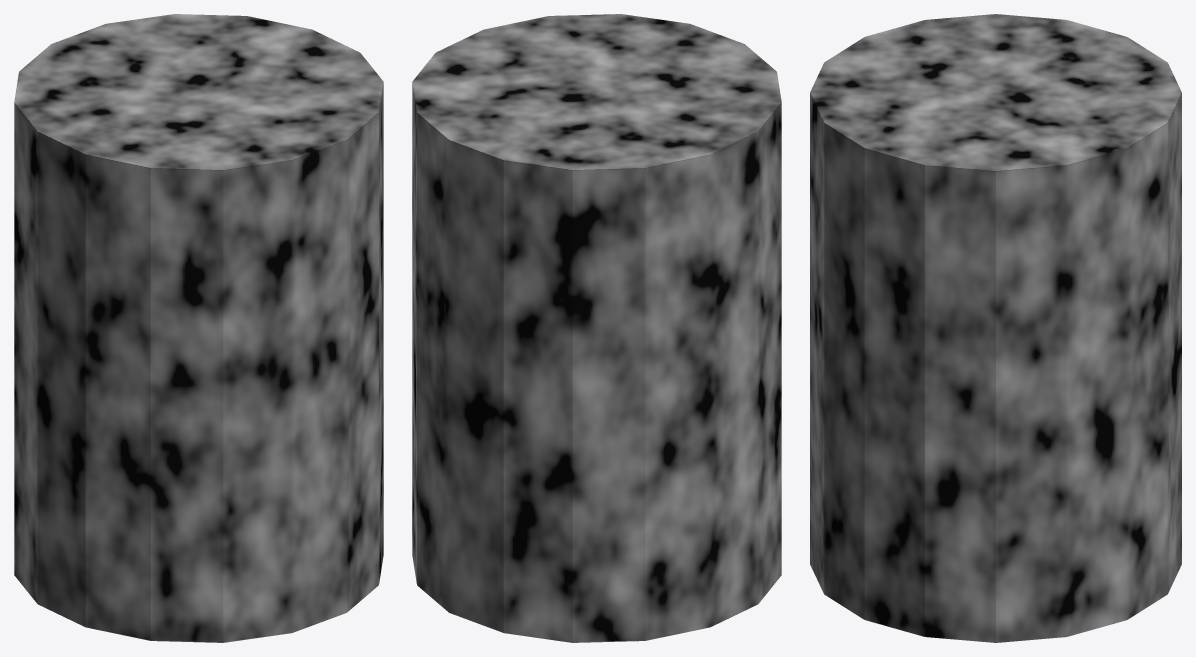
Rendered from barrel.glb.
3 views of the same model, side by side, from view 1: azimuth 30°, elevation 25°; view 2: azimuth 150°, elevation 25°; view 3: azimuth 270°, elevation 25° (orthographic).
Parts seen in each view (by area): view 1: barrel; view 2: barrel; view 3: barrel.
Part boxes in pixels (x1=…): barrel: x1=14, y1=14, x2=383, y2=642; barrel: x1=412, y1=14, x2=781, y2=642; barrel: x1=810, y1=14, x2=1181, y2=642.
Bounding box in the file's own units: 0.5 × 0.7 × 0.5.
1 material, 1 textured.
